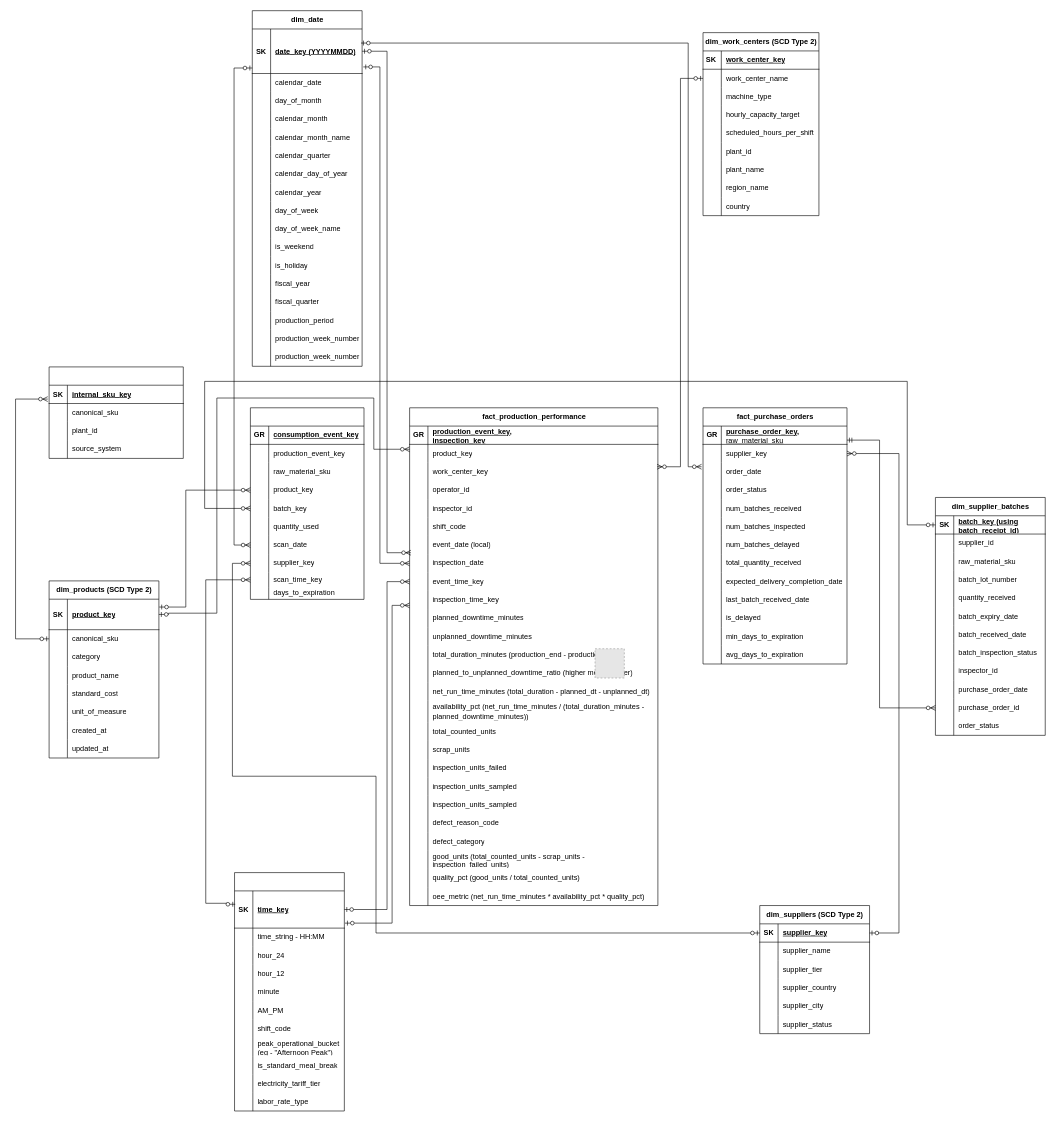
The diagram is 1056 pixels wide and 1122 high, and some of its shapes have lost their labels. Grey dashed boxes stand in for pictures. Each missing label, with the box of its shape:
dim_internal_canonical_mapping: (48, 366, 183, 458)
dim_time: (234, 872, 344, 1111)
fact_consumption_events: (250, 407, 364, 599)
